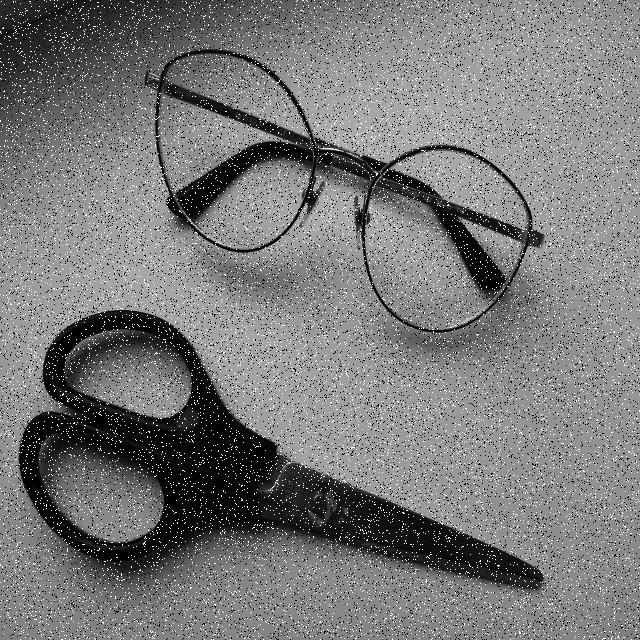scissors: (5, 265, 570, 623)
